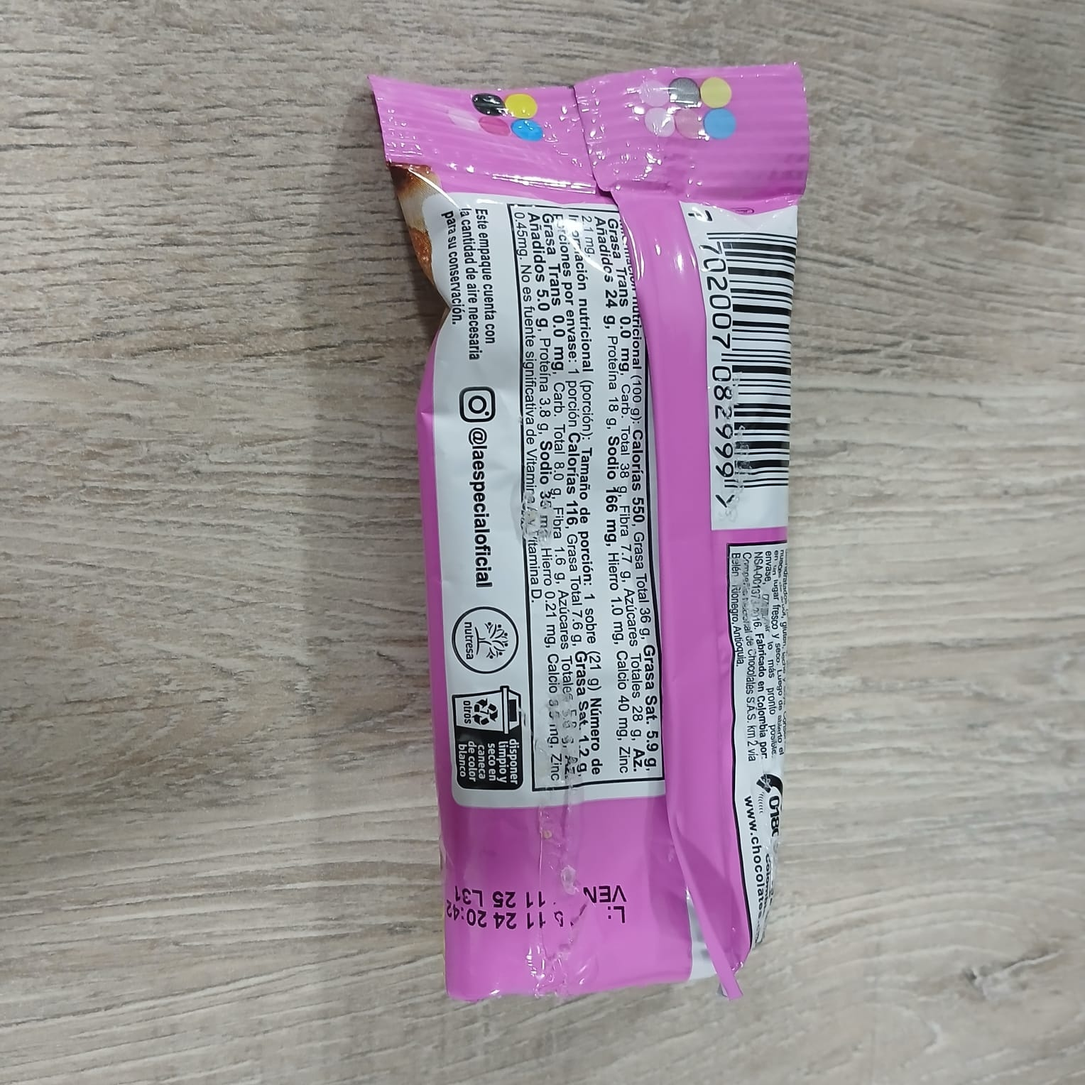Ordinario: (363, 65, 805, 1003)
